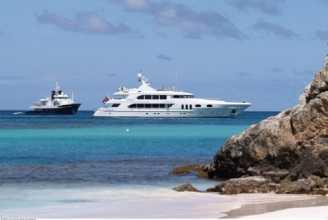otherboat: (22, 82, 82, 117)
yacht: (91, 74, 256, 119)
